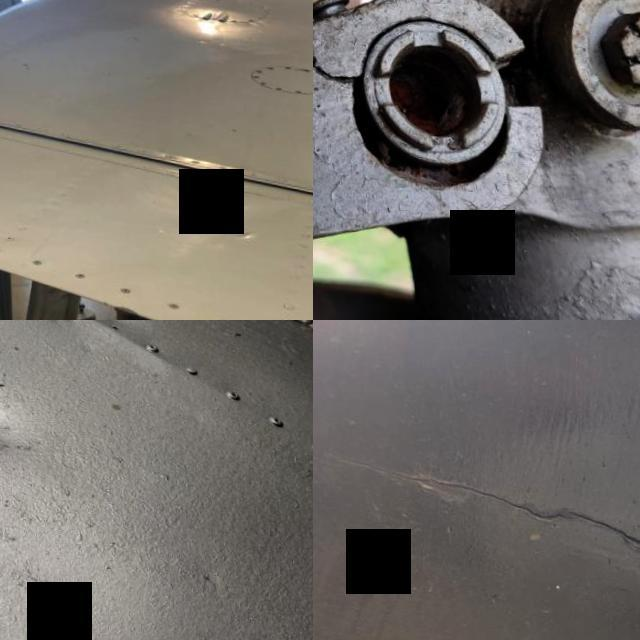Crack: (313, 418, 640, 640), (313, 34, 353, 84)
Dent: (0, 347, 58, 505), (11, 320, 155, 372), (218, 219, 261, 239)
